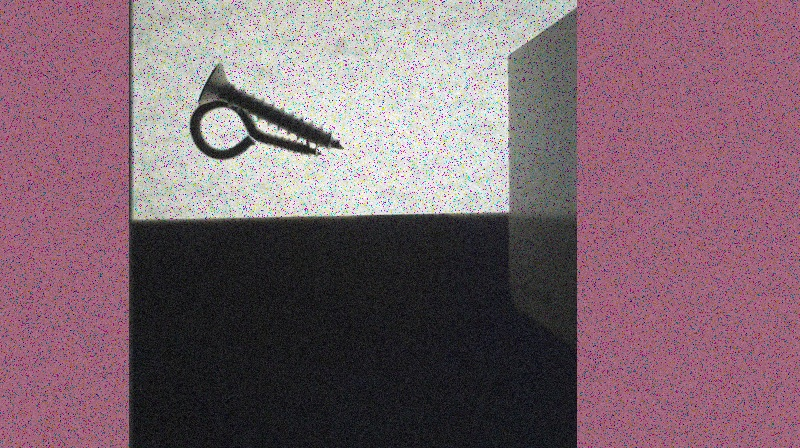O001: (187, 99, 322, 160)
S001: (195, 63, 342, 152)
